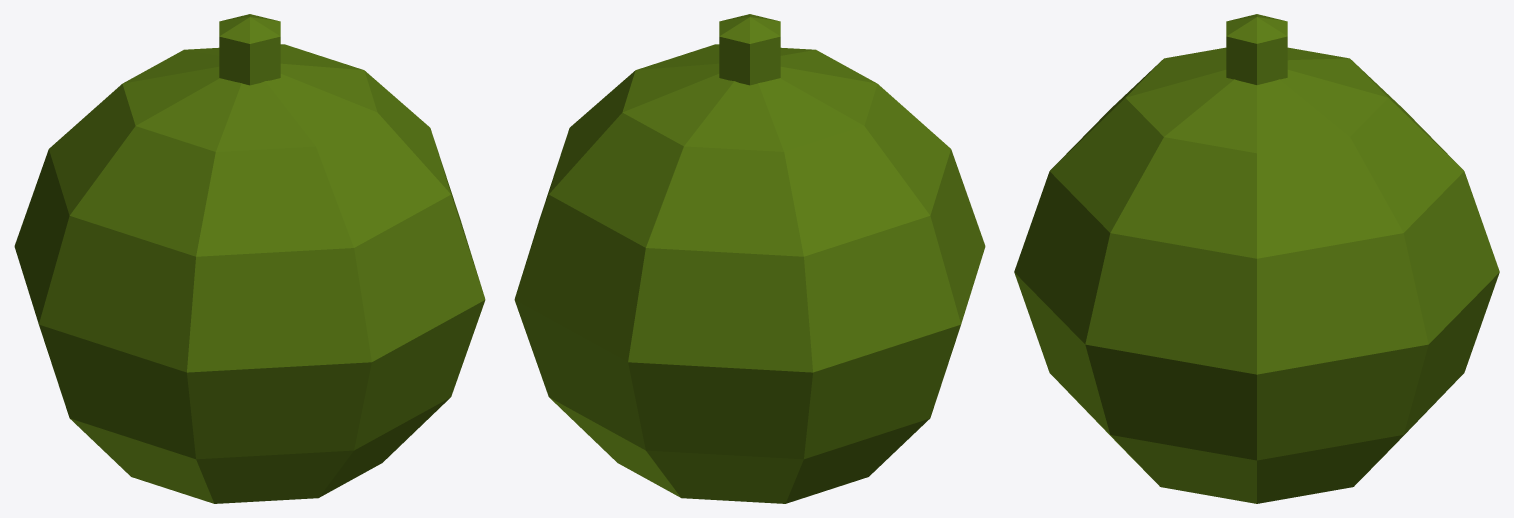
File: SM_Cook_Lime_01.fbx
The picture shows the model from 3 angles, left to right: view 1: azimuth 30°, elevation 25°; view 2: azimuth 150°, elevation 25°; view 3: azimuth 270°, elevation 25°; orthographic projection.
Visible parts, largest first — view 1: SM_Cook_Lime_01; view 2: SM_Cook_Lime_01; view 3: SM_Cook_Lime_01.
Part boxes in pixels (x1,y1,x2,y2): SM_Cook_Lime_01: [14, 14, 485, 503]; SM_Cook_Lime_01: [514, 14, 985, 503]; SM_Cook_Lime_01: [1014, 14, 1499, 503].
Size of the model in its own units: 0.048 by 0.0508 by 0.048.
Materials: 1 (1 with a texture image).
